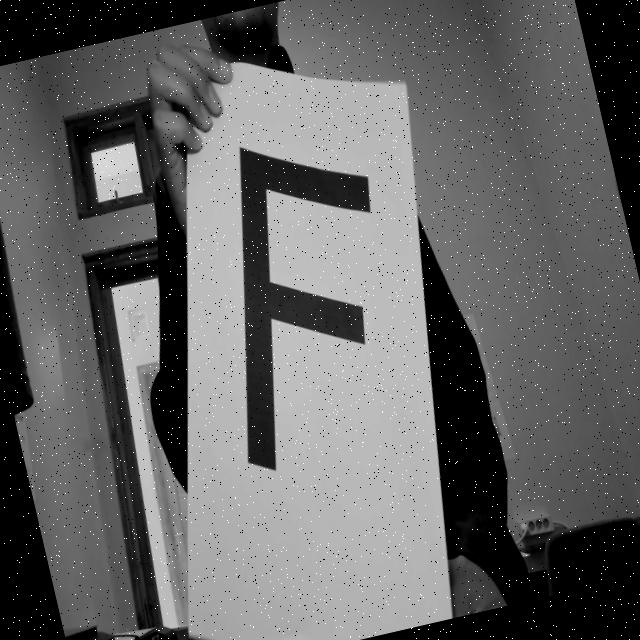f: (172, 106, 450, 534)
